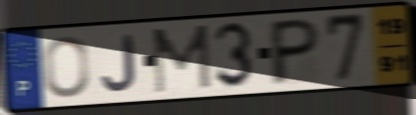3: (210, 20, 260, 92)
7: (323, 12, 369, 86)
J: (100, 32, 139, 94)
M: (150, 22, 214, 96)
O: (41, 34, 91, 100)
P: (268, 16, 323, 89)
